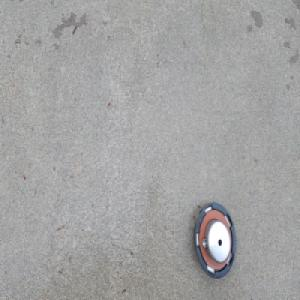FuelCap: (192, 198, 237, 281)
